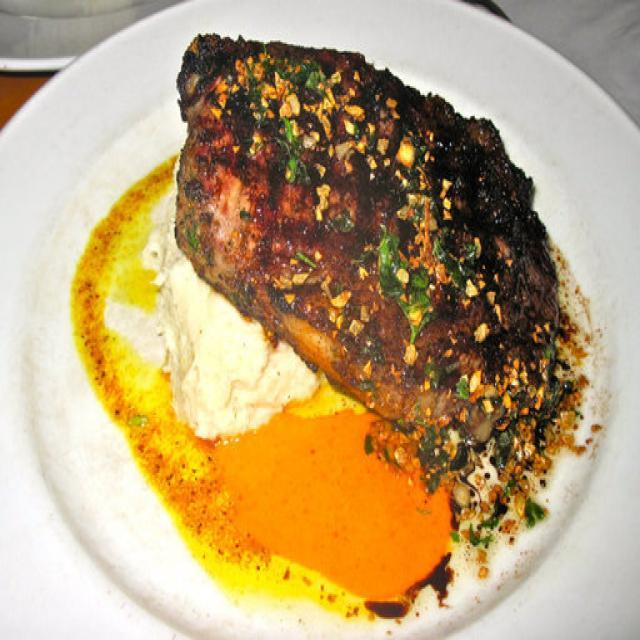Steak: (140, 40, 564, 538)
